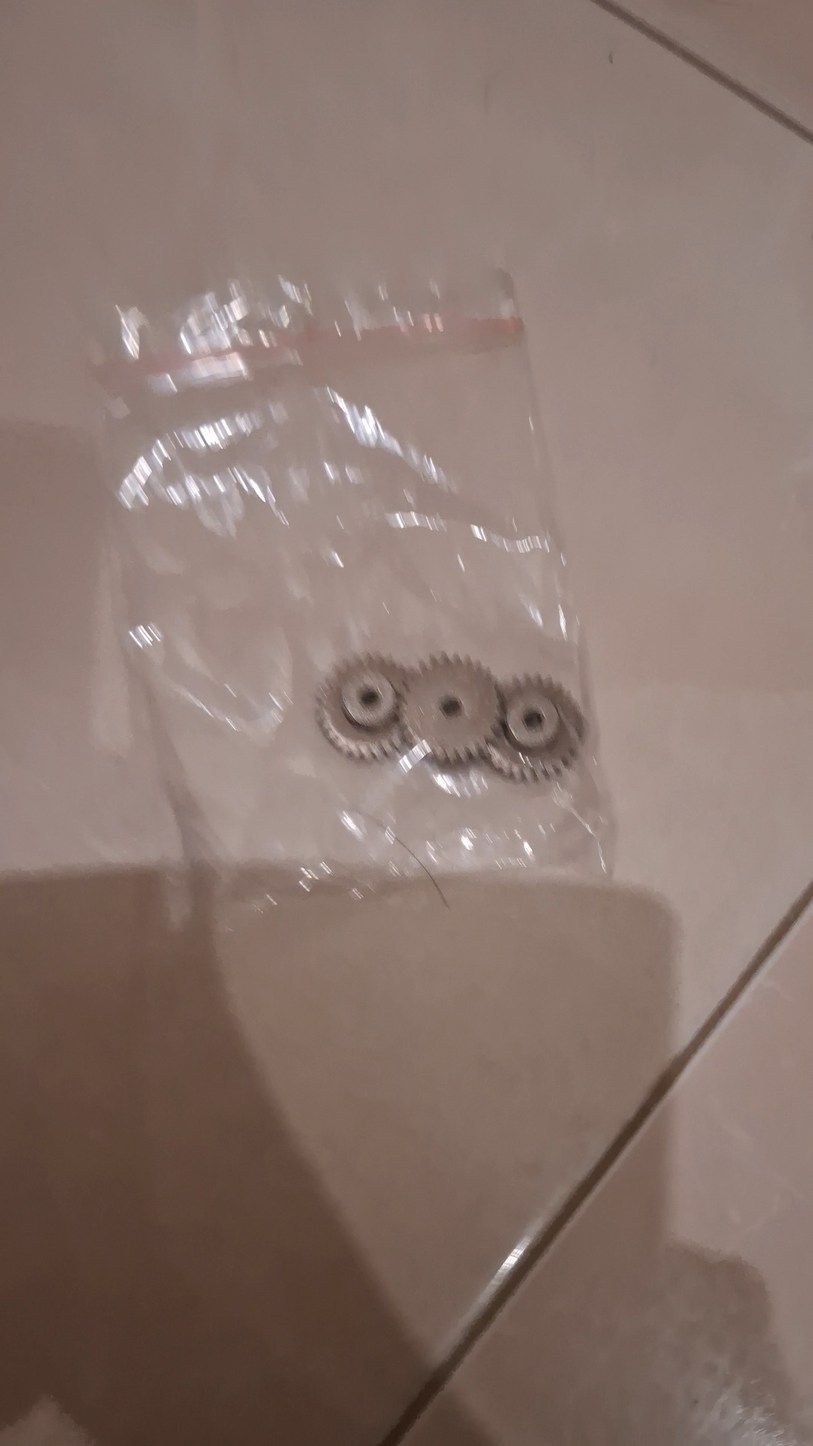spur gear: (402, 654, 500, 765), (487, 676, 585, 781), (316, 655, 408, 760)
